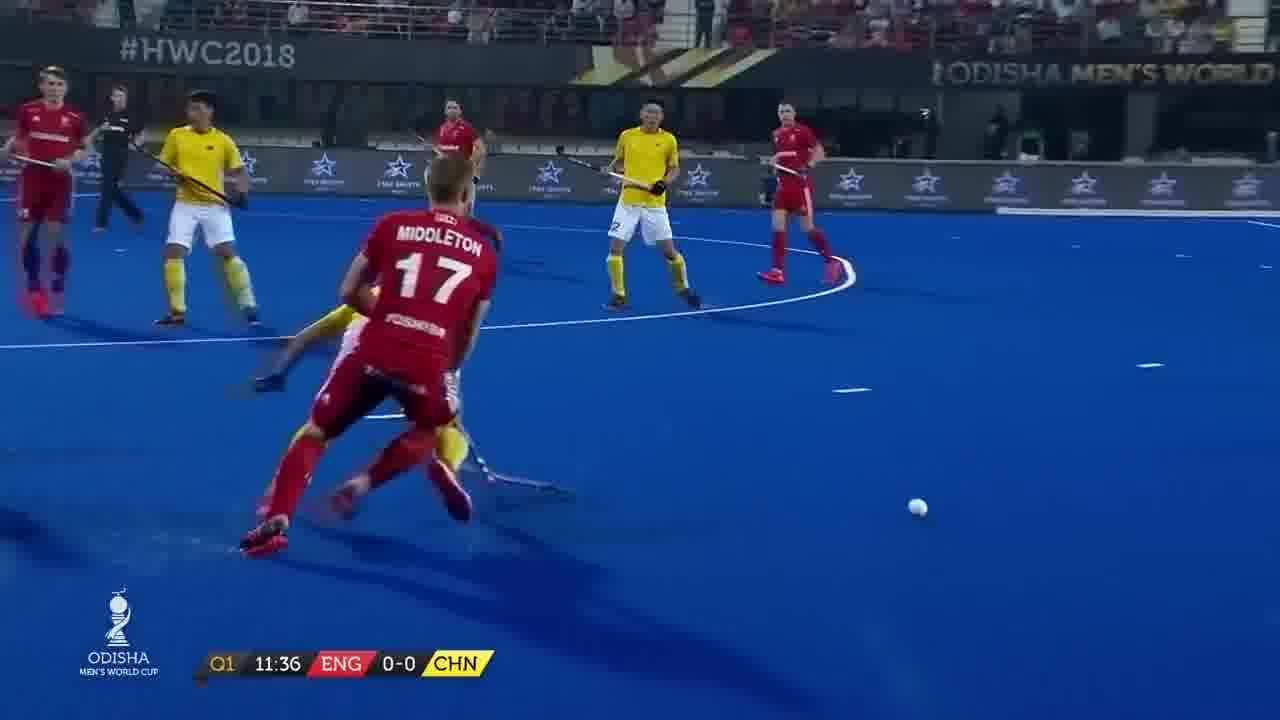ball: (900, 493, 936, 529)
